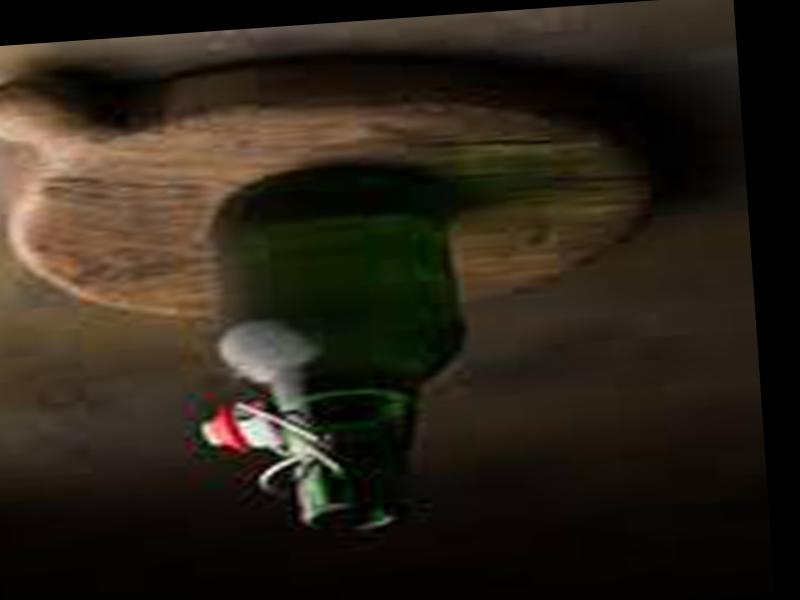Beer: (209, 167, 468, 543)
